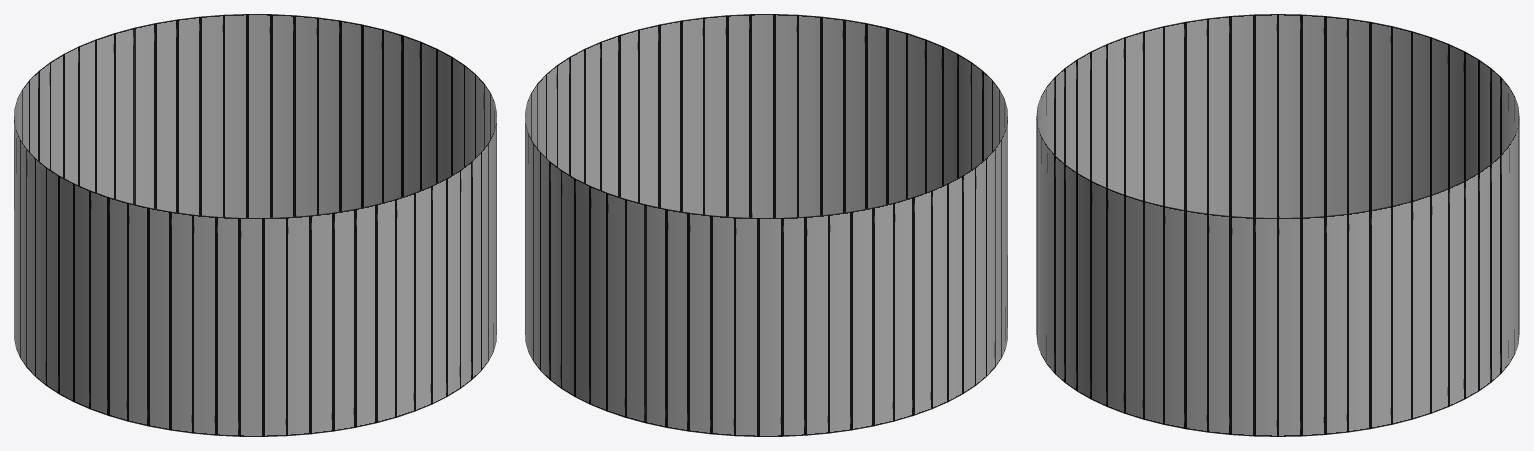
The model's file is SkyBox.glb.
3 views of the same model, side by side, from view 1: azimuth 30°, elevation 25°; view 2: azimuth 150°, elevation 25°; view 3: azimuth 270°, elevation 25° (orthographic).
Parts seen in each view (by area): view 1: SkyBox; view 2: SkyBox; view 3: SkyBox.
Part boxes in pixels (box(x1,y1,x2,y2)): SkyBox: box(14, 14, 496, 436); SkyBox: box(525, 14, 1007, 436); SkyBox: box(1036, 14, 1519, 436).
Size of the model in its own units: 512 by 256 by 512.
Materials: 1 (1 with a texture image).
